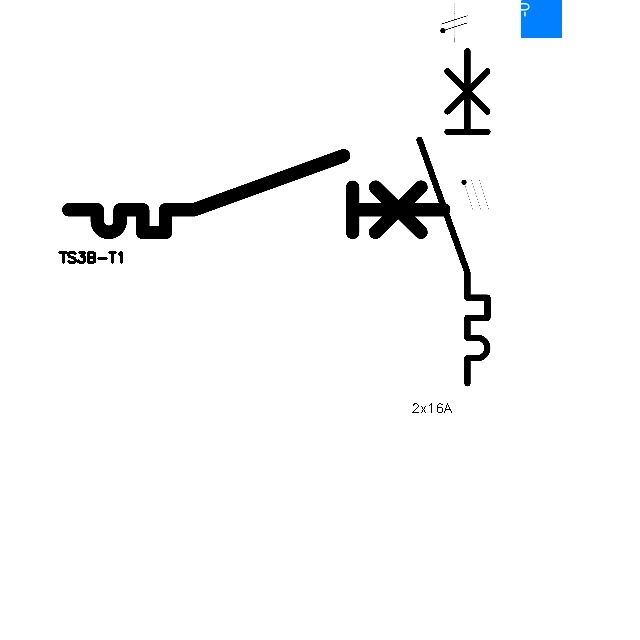interruptor_termomagnetico: (59, 146, 453, 242), (411, 42, 496, 392)
